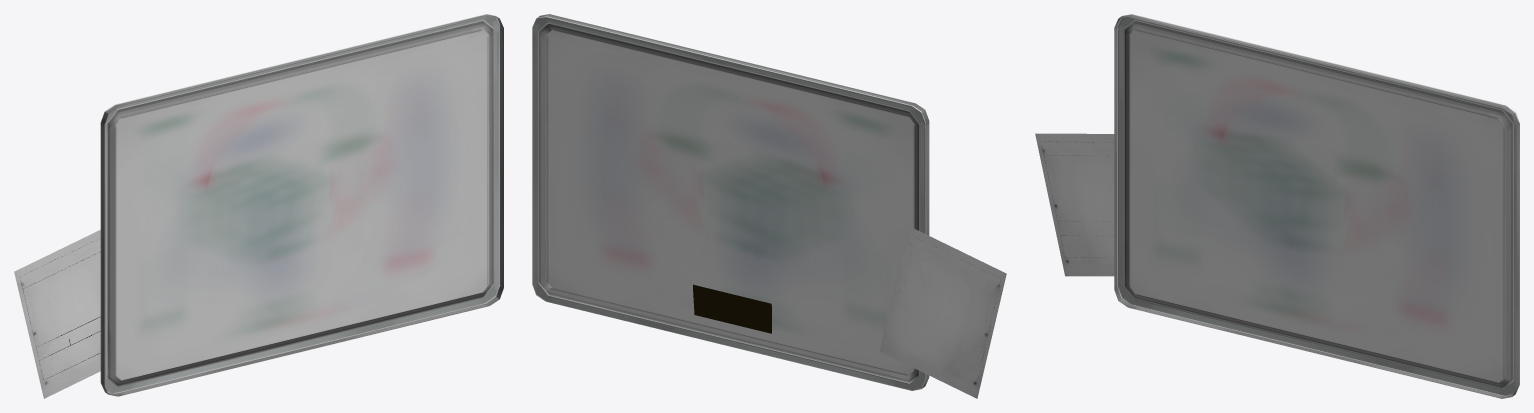
File: TournamentWhiteBoard.fbx
3 renders of one model, left to right at view 1: azimuth 30°, elevation 25°; view 2: azimuth 150°, elevation 25°; view 3: azimuth 330°, elevation 25°, orthographic. The views are drawn at different scales.
Parts seen in each view (by area): view 1: Model, SheetFront, SheetBack; view 2: Model, SheetBack, PaddedQuad_BackingLabel, SheetFront; view 3: Model, SheetBack, SheetFront.
Part boxes in pixels (<box>): Model: <box>100,14,503,396</box>; SheetFront: <box>15,230,100,398</box>; SheetBack: <box>14,230,100,398</box>; Model: <box>532,14,929,390</box>; SheetBack: <box>880,226,1006,398</box>; PaddedQuad_BackingLabel: <box>693,284,771,333</box>; SheetFront: <box>880,226,1005,398</box>; Model: <box>1114,14,1519,398</box>; SheetBack: <box>1035,133,1114,276</box>; SheetFront: <box>1035,133,1114,276</box>.
Bounding box in the file's own units: 0.9222 × 0.5267 × 0.0194.
Materials: 4 (4 with a texture image).
